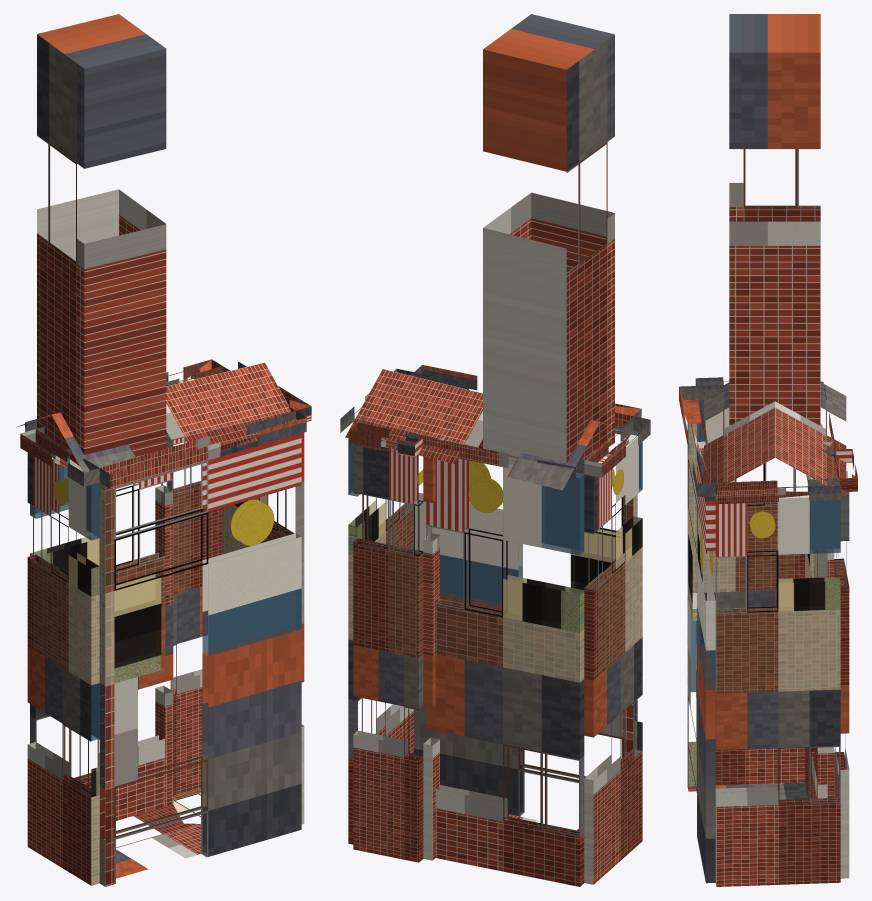
3 renders of one model, left to right at view 1: azimuth 30°, elevation 25°; view 2: azimuth 150°, elevation 25°; view 3: azimuth 270°, elevation 25°, orthographic. The views are drawn at different scales.
Visible parts, largest first — view 1: 1106973752__wall_0_xb, 1106973752__chimney_0_xb, 1106973752__wall_1_xb, 1106973752__wall_0_xf, 1106973752__wall_4_xb, 1106973752_roof_-1_xb, 1106973752__wall_2_xb, 1106973752__cornice_0, 1106973752__wall_3_xb, 1106973752__wall_5_xb, 1106973752__base, 1106973752__wall_1_xf (+3 smaller); view 2: 1106973752__chimney_0_xb, 1106973752__wall_2_xb, 1106973752__wall_4_xb, 1106973752__wall_1_xb, 1106973752__wall_0_xb, 1106973752_roof_1_xb, 1106973752__wall_2_xf, 1106973752__wall_5_xb, 1106973752__wall_3_xb, 1106973752__wall_0_xf, 1106973752__cornice_1, 1106973752__cornice_4 (+4 smaller); view 3: 1106973752__wall_5_xb, 1106973752__chimney_0_xb, 1106973752__wall_0_xb, 1106973752__wall_1_xb, 1106973752_roof_-1_xb, 1106973752_roof_1_xb, 1106973752__wall_4_xb, 1106973752__wall_5_xf, 1106973752__cornice_5, 1106973752__wall_0_xf, 1106973752__cornice_0, 1106973752__wall_2_xb (+4 smaller).
Boxes of the visible parts, bbox=[...] form: 1106973752__wall_0_xb: bbox=[99, 433, 301, 886]; 1106973752__chimney_0_xb: bbox=[37, 14, 166, 466]; 1106973752__wall_1_xb: bbox=[27, 453, 99, 885]; 1106973752__wall_0_xf: bbox=[100, 483, 301, 885]; 1106973752__wall_4_xb: bbox=[161, 437, 222, 795]; 1106973752_roof_-1_xb: bbox=[51, 362, 296, 472]; 1106973752__wall_2_xb: bbox=[30, 457, 173, 820]; 1106973752__cornice_0: bbox=[99, 411, 306, 488]; 1106973752__wall_3_xb: bbox=[155, 431, 173, 806]; 1106973752__wall_5_xb: bbox=[222, 432, 304, 824]; 1106973752__base: bbox=[116, 787, 200, 878]; 1106973752__wall_1_xf: bbox=[69, 483, 99, 796]; 1106973752__chimney_0_xb: bbox=[483, 14, 614, 465]; 1106973752__wall_2_xb: bbox=[426, 458, 584, 886]; 1106973752__wall_4_xb: bbox=[353, 445, 423, 862]; 1106973752__wall_1_xb: bbox=[584, 431, 642, 884]; 1106973752__wall_0_xb: bbox=[414, 427, 637, 816]; 1106973752_roof_1_xb: bbox=[345, 369, 599, 490]; 1106973752__wall_2_xf: bbox=[503, 473, 583, 632]; 1106973752__wall_5_xb: bbox=[348, 438, 413, 844]; 1106973752__wall_3_xb: bbox=[423, 456, 439, 860]; 1106973752__wall_0_xf: bbox=[440, 529, 637, 720]; 1106973752__cornice_1: bbox=[584, 416, 650, 477]; 1106973752__cornice_4: bbox=[349, 422, 423, 457]; 1106973752__wall_5_xb: bbox=[715, 495, 840, 886]; 1106973752__chimney_0_xb: bbox=[729, 14, 820, 425]; 1106973752__wall_0_xb: bbox=[687, 399, 715, 883]; 1106973752__wall_1_xb: bbox=[696, 399, 804, 785]; 1106973752_roof_-1_xb: bbox=[704, 382, 774, 487]; 1106973752_roof_1_xb: bbox=[775, 382, 846, 495]; 1106973752__wall_4_xb: bbox=[834, 492, 849, 878]; 1106973752__wall_5_xf: bbox=[778, 500, 840, 611]; 1106973752__cornice_5: bbox=[715, 478, 841, 504]; 1106973752__wall_0_xf: bbox=[688, 511, 715, 785]; 1106973752__cornice_0: bbox=[679, 386, 715, 496]; 1106973752__wall_2_xb: bbox=[805, 475, 827, 798].
Size of the model in its own units: 0.45 by 1.4 by 0.2937.
Materials: 1 (1 with a texture image).
